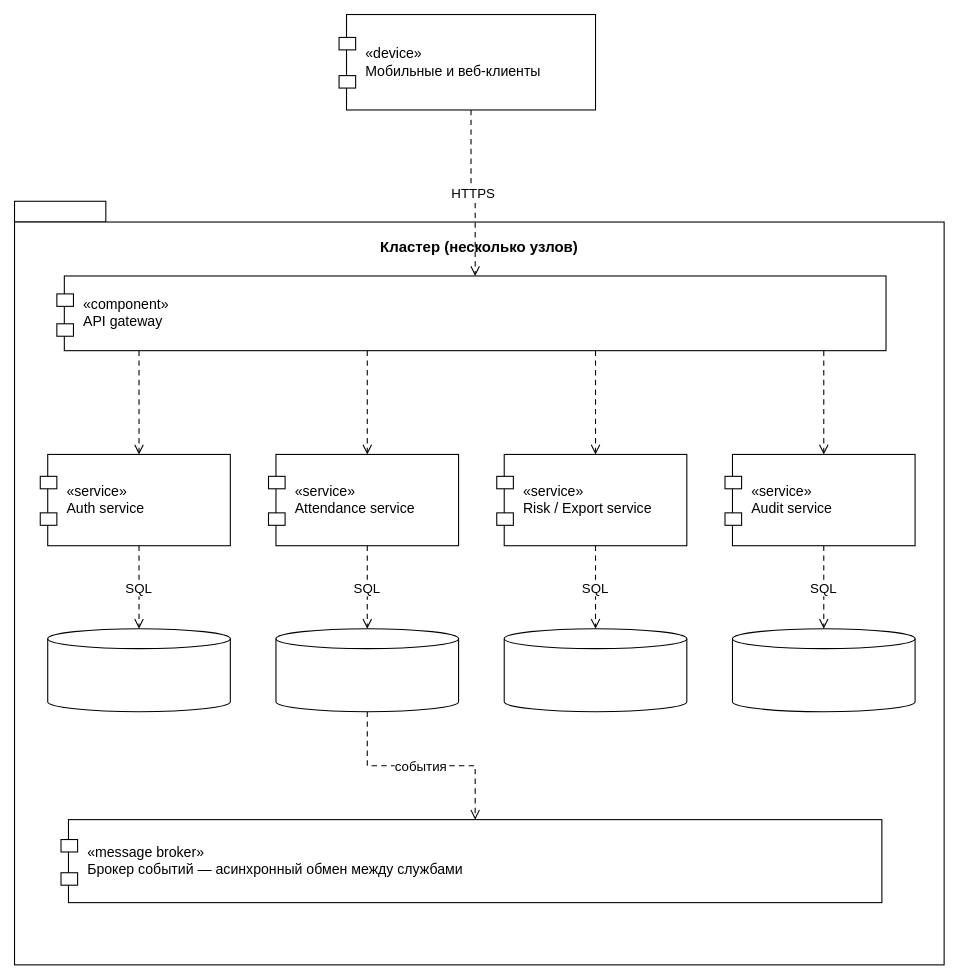
This 959x980 diagram has some shape labels left out. Here are the shapes that lost their labels. From the top down, the centre of each, then its label:
At point 138,670: "«database» БД auth".
At point 367,670: "«database» БД att".
At point 595,670: "«database» БД risk".
At point 823,670: "«database» БД audit".
